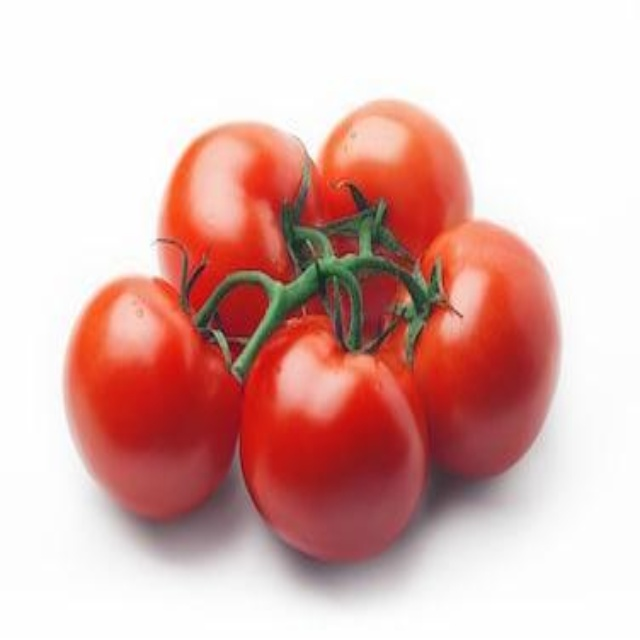tomato: (231, 325, 434, 567), (386, 231, 568, 477), (67, 276, 246, 521), (140, 118, 323, 314), (307, 98, 464, 280)
